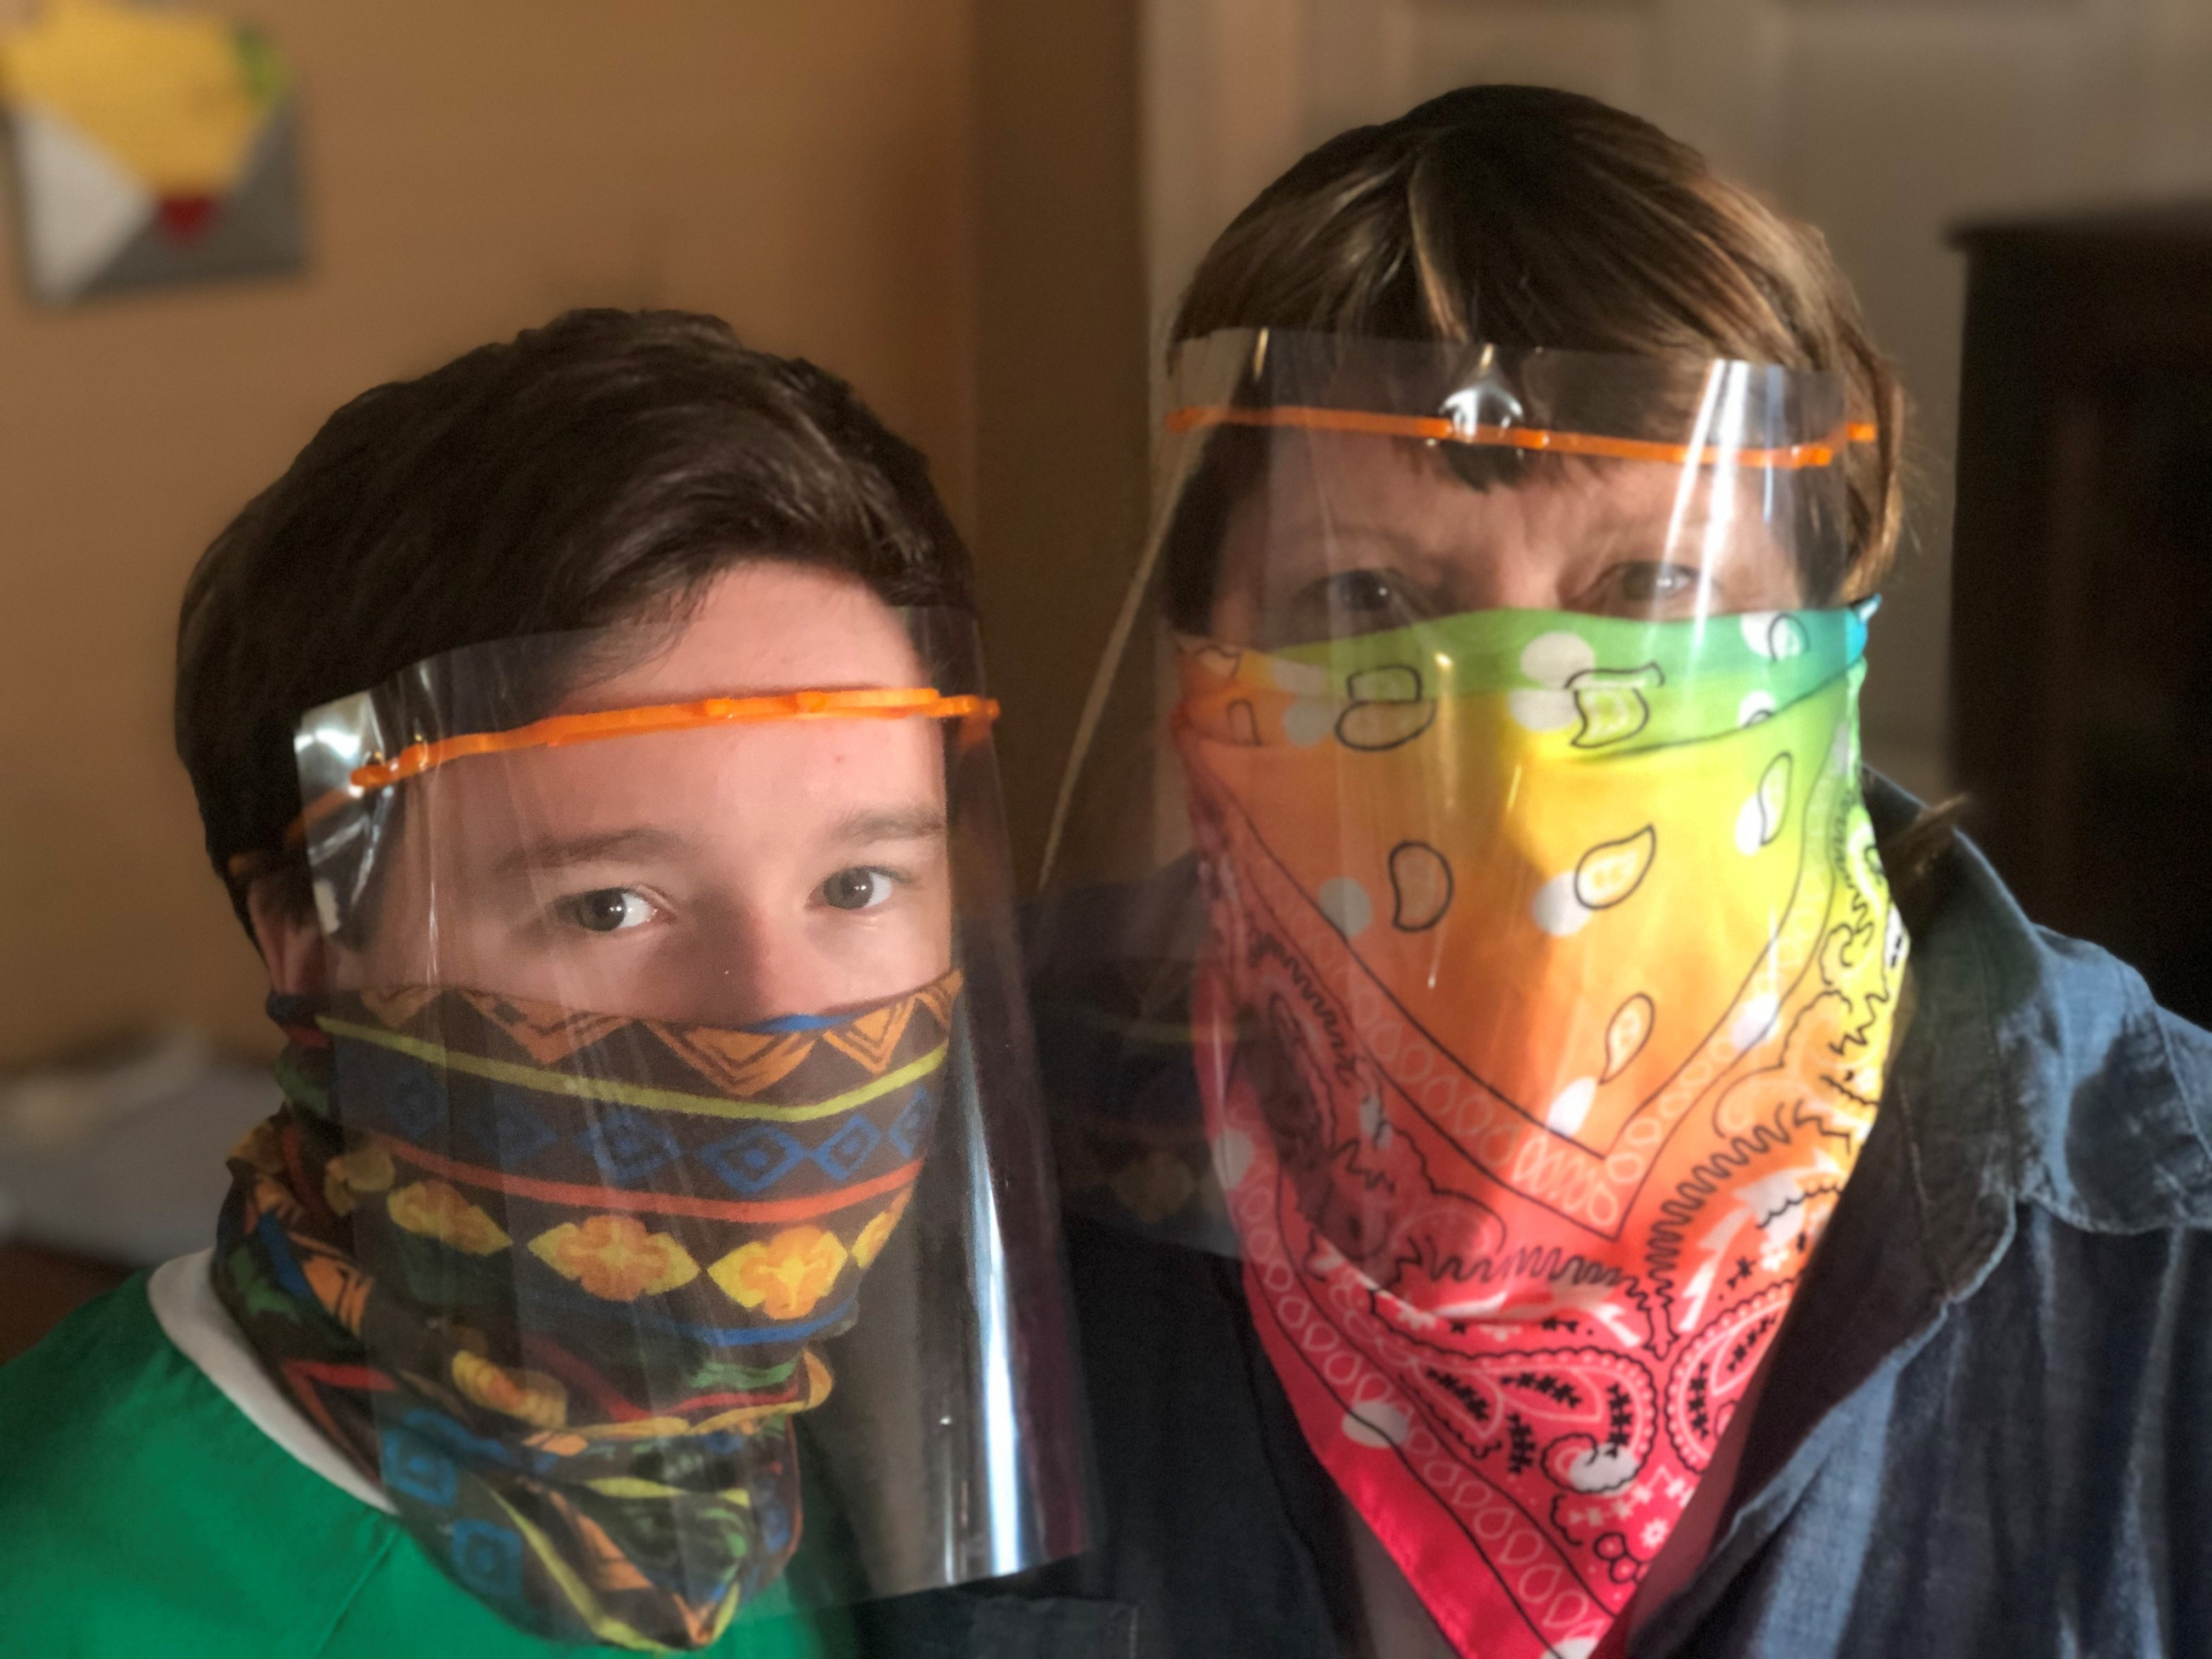face_with_mask: (269, 428, 960, 1376), (1163, 298, 1855, 1145)
